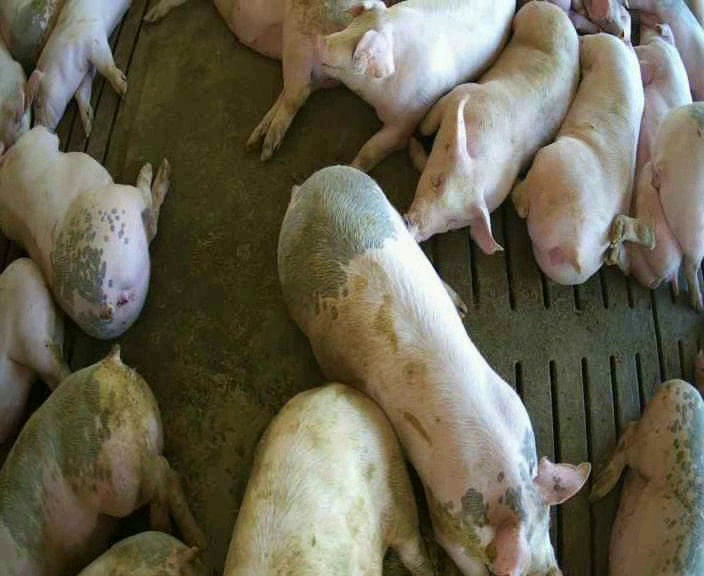pig: (278, 166, 589, 573), (0, 346, 204, 574), (406, 2, 577, 252), (225, 383, 431, 574), (0, 126, 168, 338), (512, 33, 643, 284), (321, 1, 514, 170), (607, 24, 691, 287), (590, 379, 703, 574), (27, 2, 129, 133), (0, 258, 69, 442), (653, 102, 703, 310), (629, 1, 703, 100), (79, 531, 203, 575)
